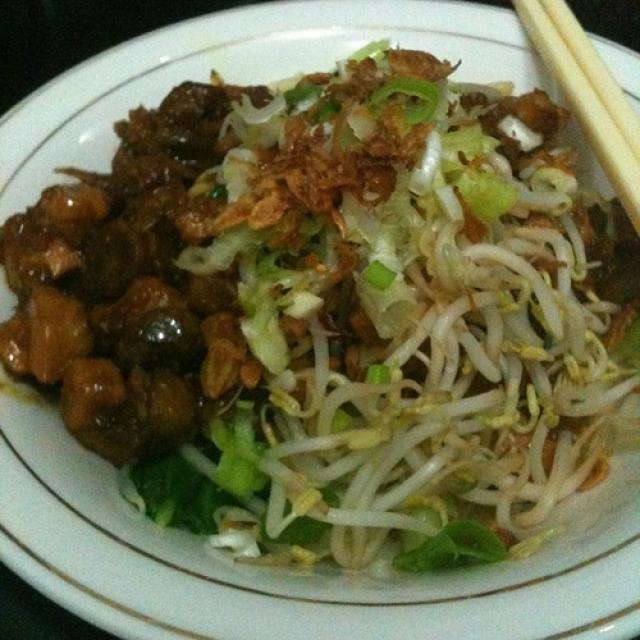面条主食: (32, 32, 616, 552)
